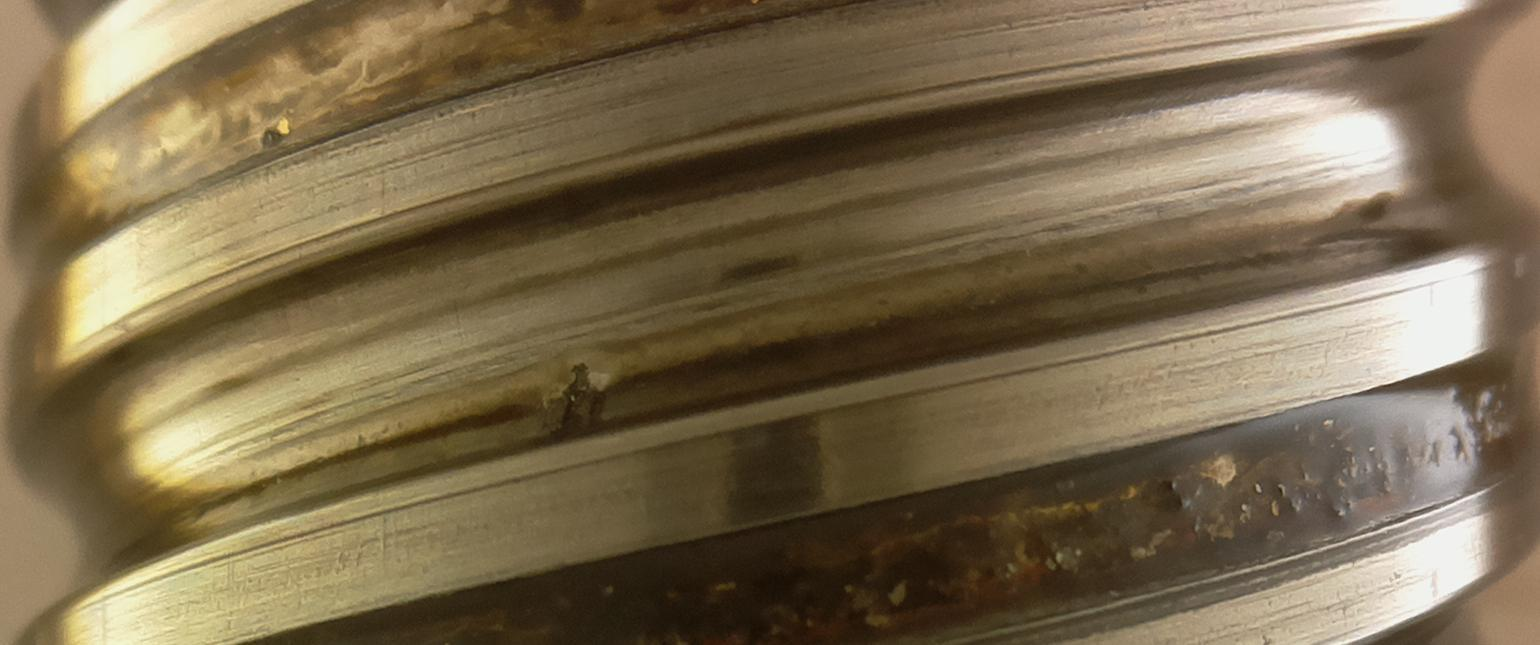pitting: (533, 361, 608, 447)
